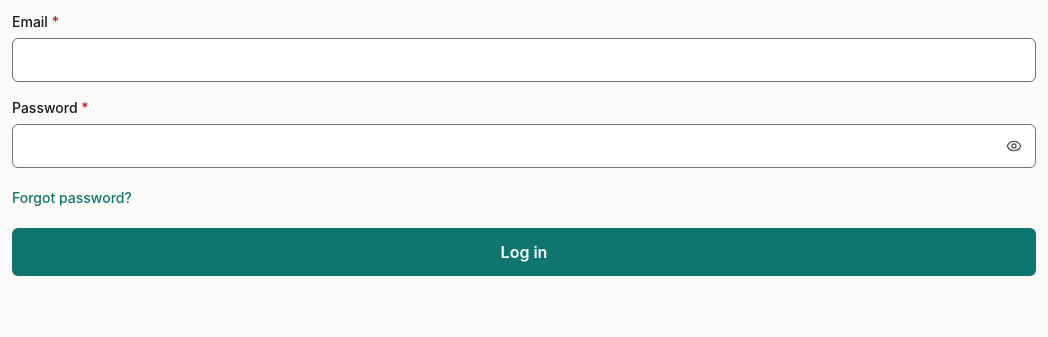
Scenario: LoginForm › validates before calling the API and focuses the first problem
The width and height of the screenshot is (1048, 337).
Step 1. Click the button "Log in" → (524, 252), box [12, 228, 1036, 276]
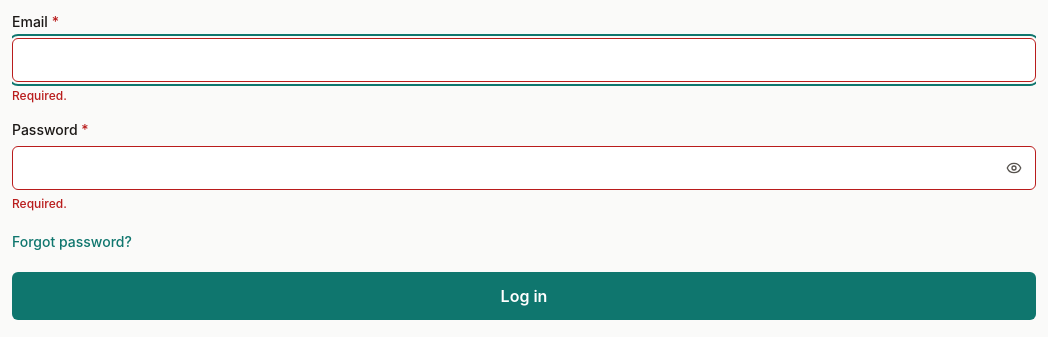
Result: the text "Required." is shown 2 times at [12, 88, 67, 103]; [12, 196, 67, 211]
